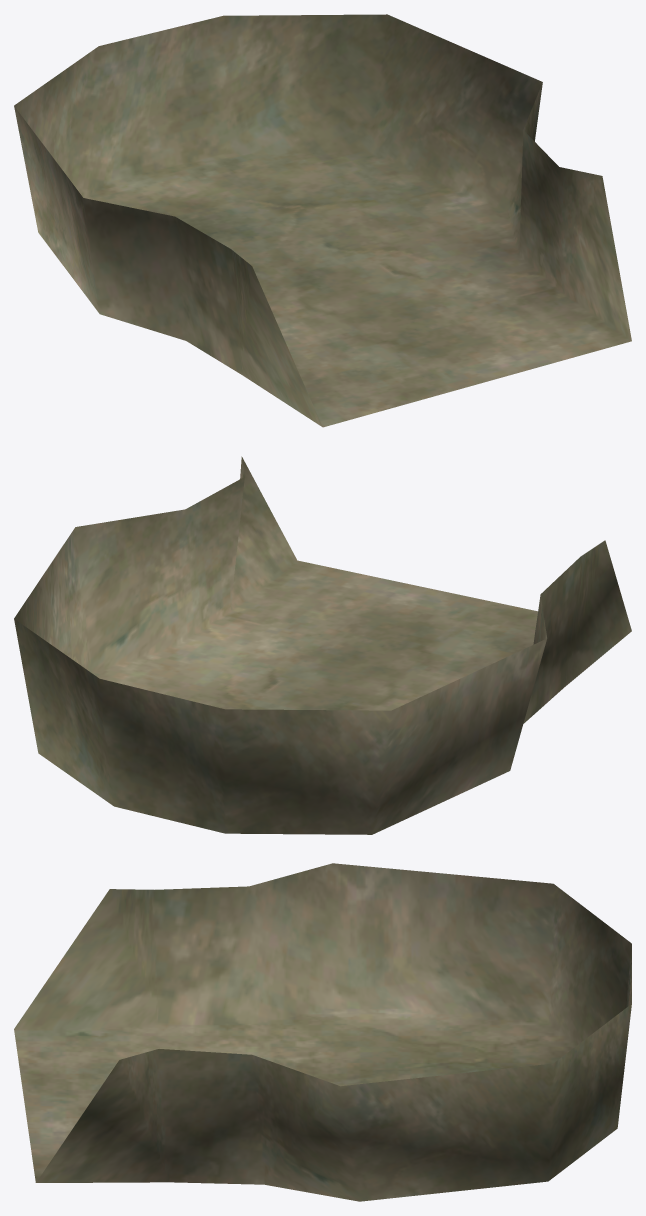
The model's file is EKH_JAIL_PS_JA_OBJECT06.fbx.
3 views of the same model, one above another, from view 1: azimuth 30°, elevation 25°; view 2: azimuth 150°, elevation 25°; view 3: azimuth 270°, elevation 25° (orthographic). The views are drawn at different scales.
Parts seen in each view (by area): view 1: EKH_JAIL_PS_JA_OBJECT06; view 2: EKH_JAIL_PS_JA_OBJECT06; view 3: EKH_JAIL_PS_JA_OBJECT06.
Boxes of the visible parts, x1,y1,x2,y2 form: EKH_JAIL_PS_JA_OBJECT06: (14, 14, 631, 427); EKH_JAIL_PS_JA_OBJECT06: (14, 456, 631, 834); EKH_JAIL_PS_JA_OBJECT06: (14, 863, 631, 1201).
Bounding box in the file's own units: 12900 × 3491 × 15111.
Materials: 1 (1 with a texture image).
